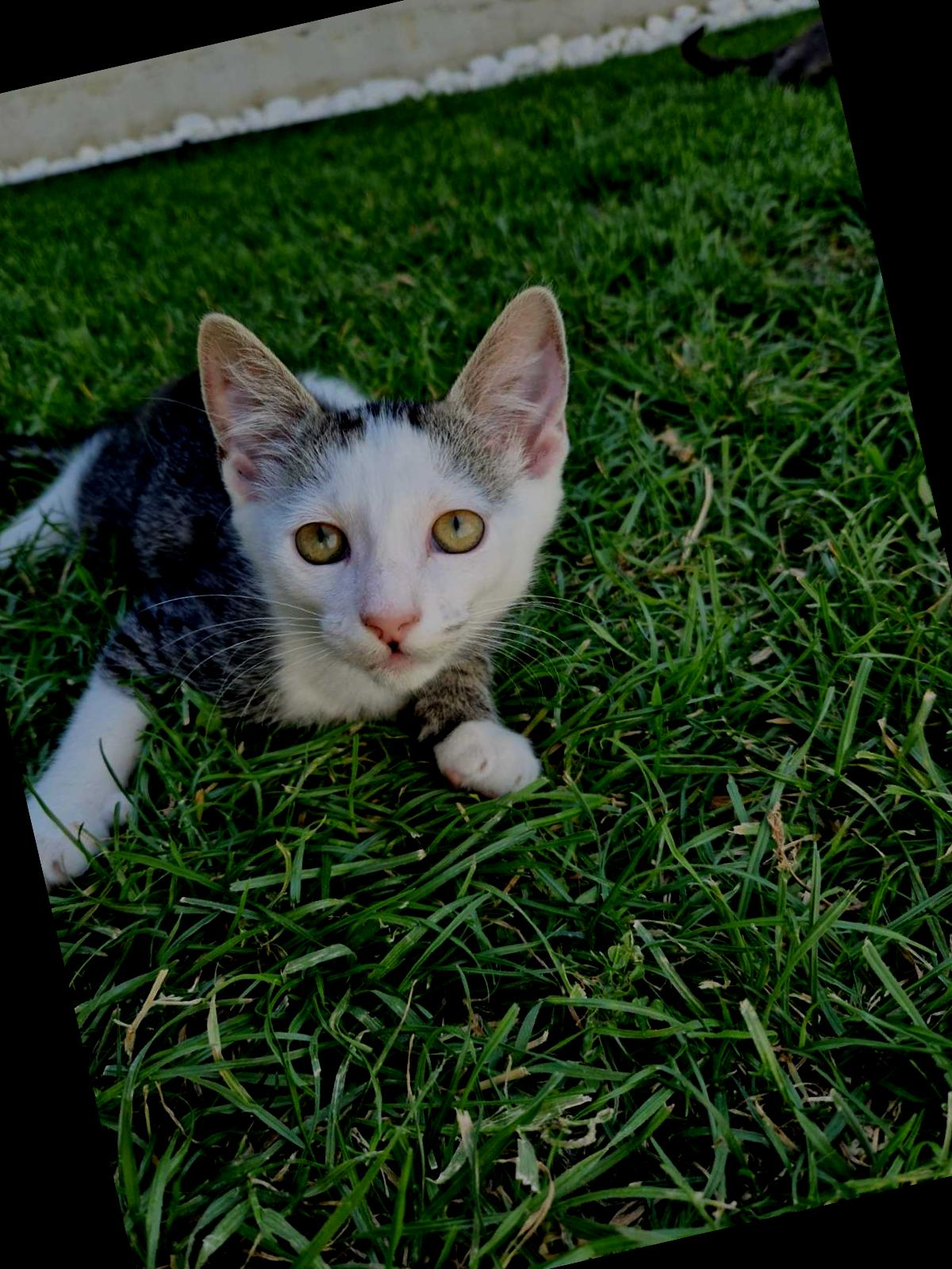macka: (0, 229, 667, 913)
